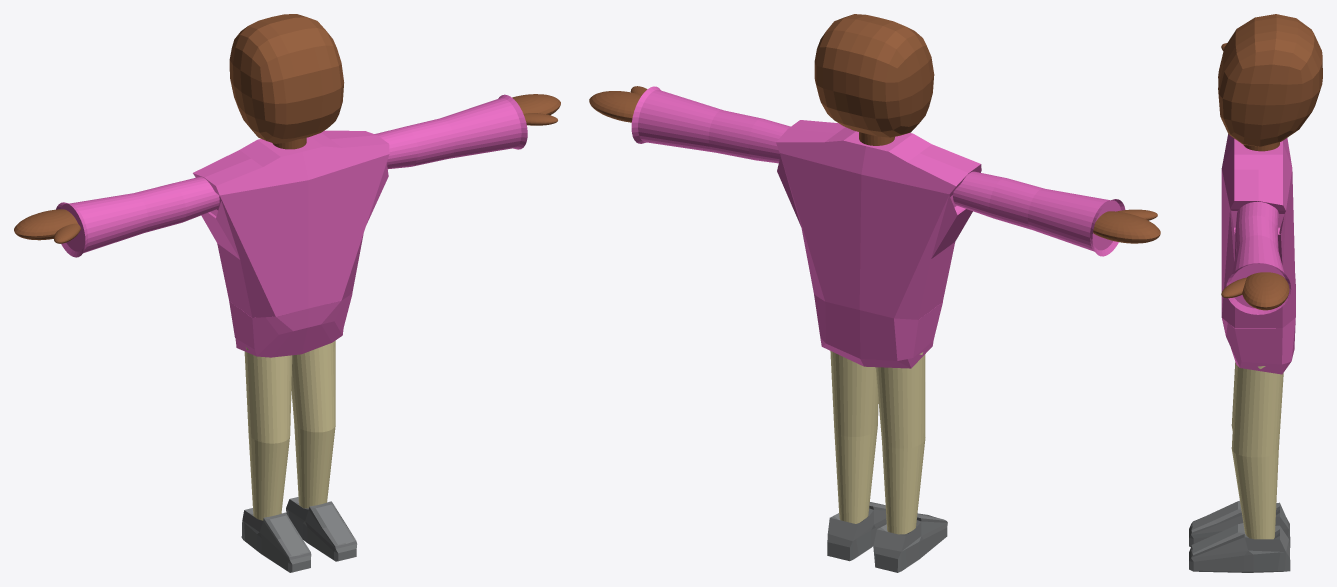
File: La Trombonette_Character 6.fbx
The picture shows the model from 3 angles, left to right: view 1: azimuth 30°, elevation 25°; view 2: azimuth 150°, elevation 25°; view 3: azimuth 270°, elevation 25°; orthographic projection. The views are drawn at different scales.
Visible parts, largest first — view 1: Torse, Jambe, Head, Sphere; view 2: Torse, Jambe, Head, Sphere; view 3: Torse, Jambe, Head, Sphere, Cou.
Boxes of the visible parts, x1,y1,x2,y2 form: Torse: (56,94,527,357); Jambe: (241,340,357,572); Head: (229,14,344,143); Sphere: (14,94,560,243); Torse: (631,86,1125,368); Jambe: (827,351,947,572); Head: (814,14,934,137); Sphere: (589,86,1160,243); Torse: (1221,134,1295,374); Jambe: (1189,362,1290,572); Head: (1218,14,1322,146); Sphere: (1221,43,1289,310); Cou: (1243,142,1279,151).
Bounding box in the file's own units: 1212 × 1097 × 251.
